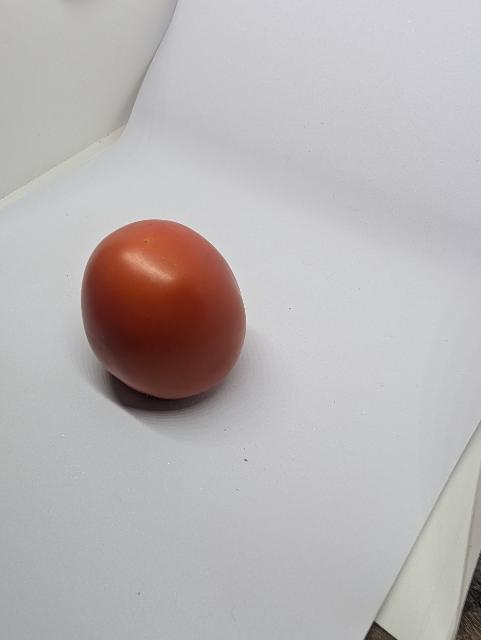red: (63, 212, 265, 411)
